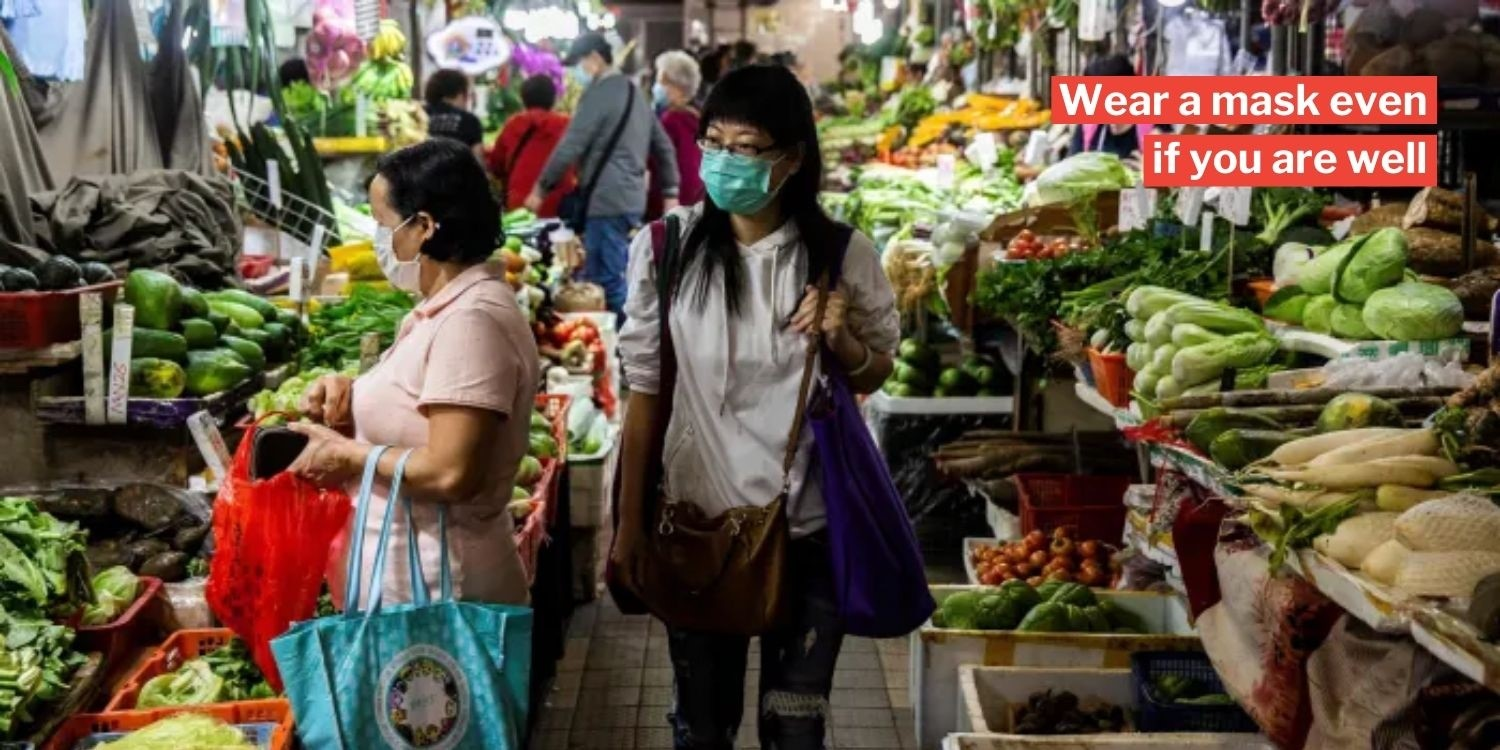face_with_mask: (360, 141, 503, 293), (695, 67, 822, 227), (557, 32, 616, 91)
